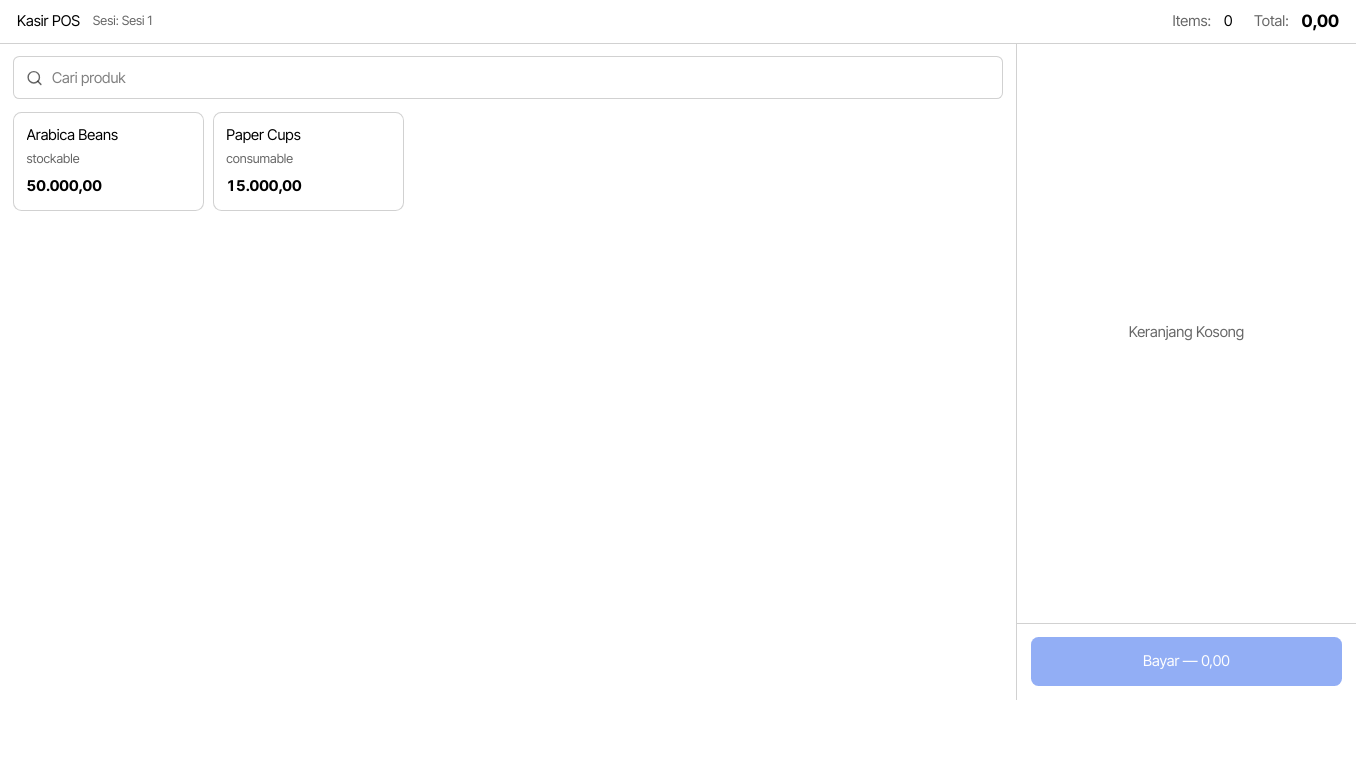
PosRegister extra2 › completes payment and shows the receipt
The image size is (1366, 768).
Expected: the text "Arabica Beans" is shown, [26,125,118,147]
What coordinates should you click on to do the following:
click the button "Arabica Beans stockable 50.000,00"
I would click on:
 (108, 161)
Its box is [13,112,204,211].
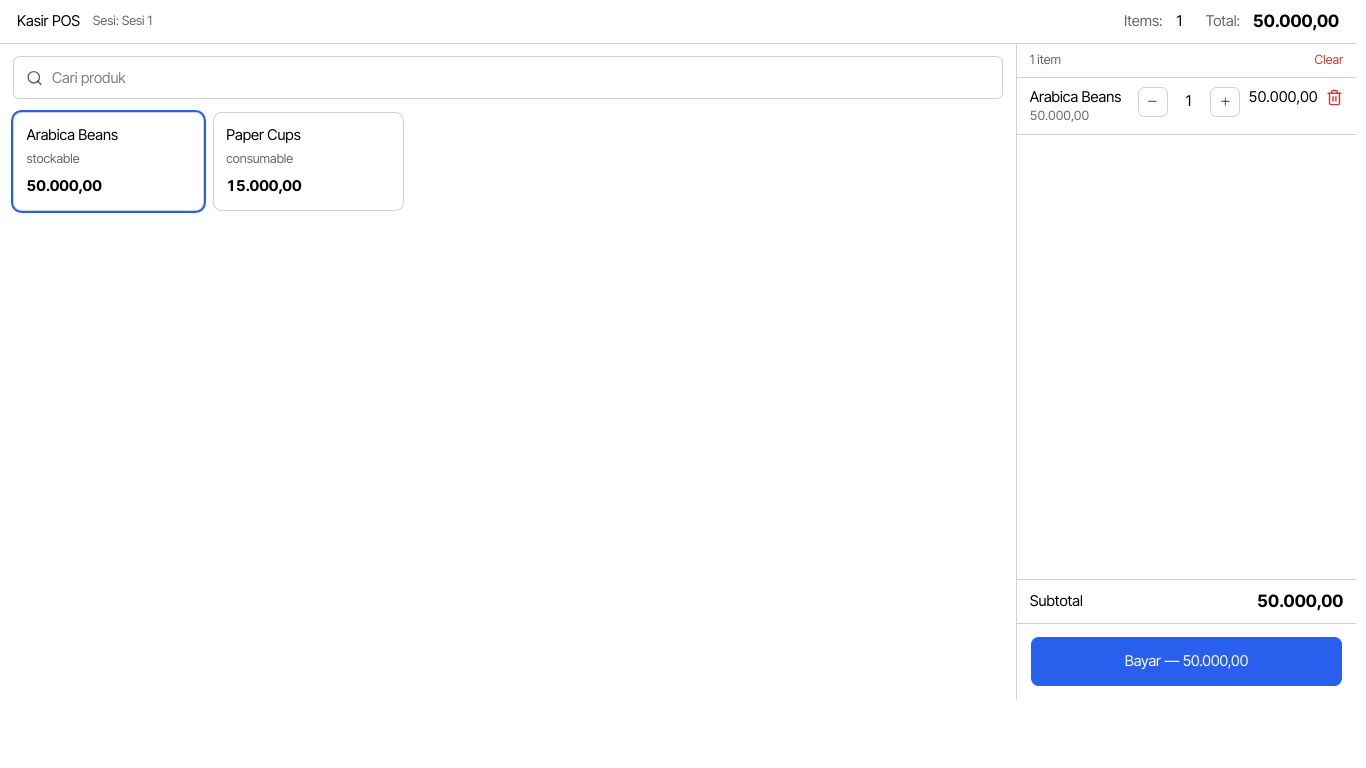
What coordinates should you click on to do the following:
click the button "Bayar — 50.000,00"
I would click on:
 (1187, 662)
Its box is [1030,636,1343,687].
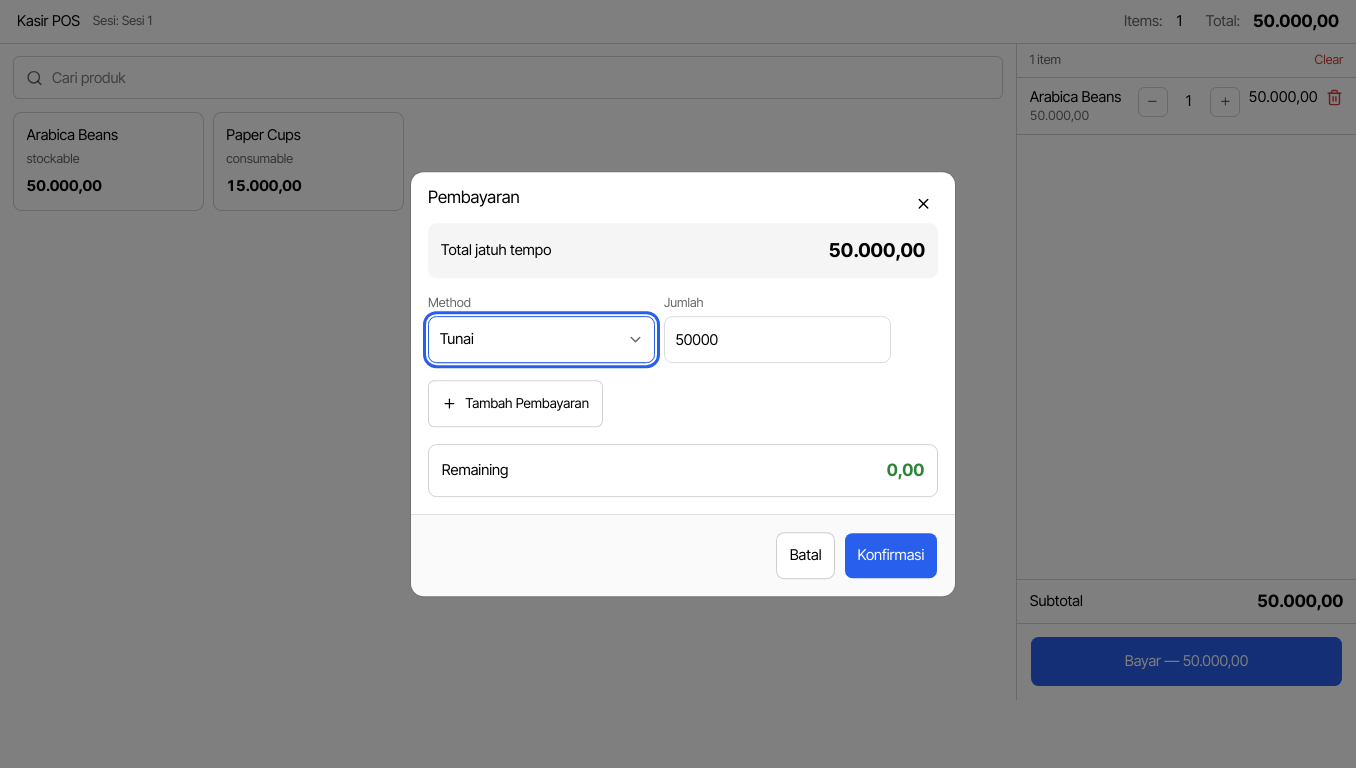
What coordinates should you click on to do the following:
click the button "Konfirmasi"
I would click on:
 (891, 556)
Its box is [844,532,938,579].
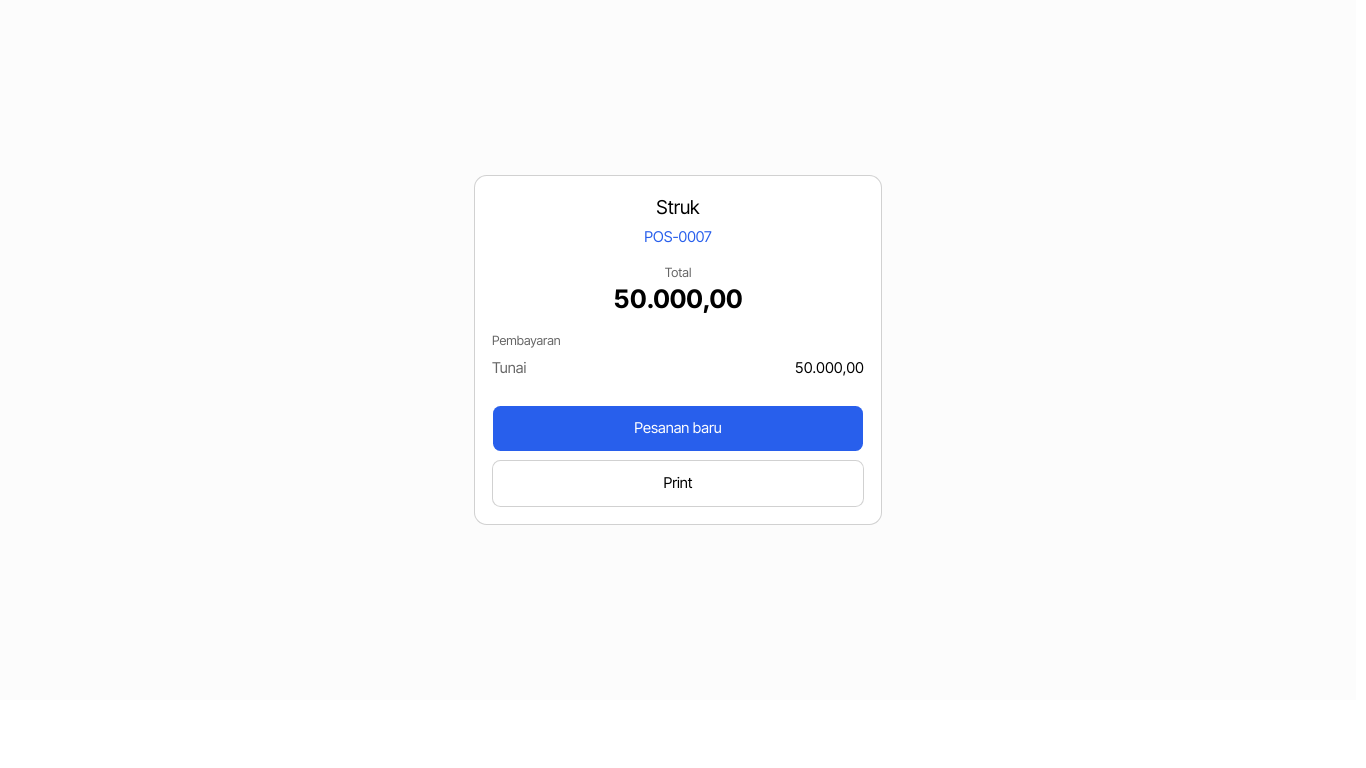
Result: the text "Struk" is shown at [656,195,700,219]
Result: the link "POS-0007" is shown at [644,228,712,246]
